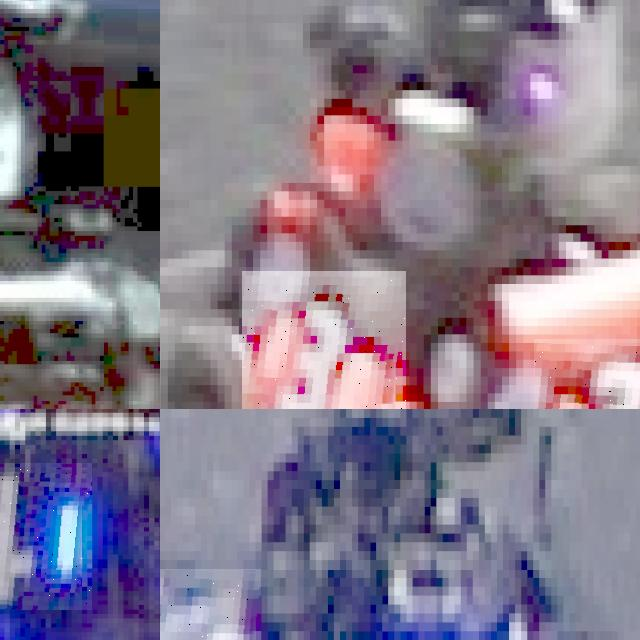B1: (160, 569, 261, 640)
B4: (0, 463, 92, 609)
R3: (242, 271, 405, 409), (534, 338, 640, 409)
